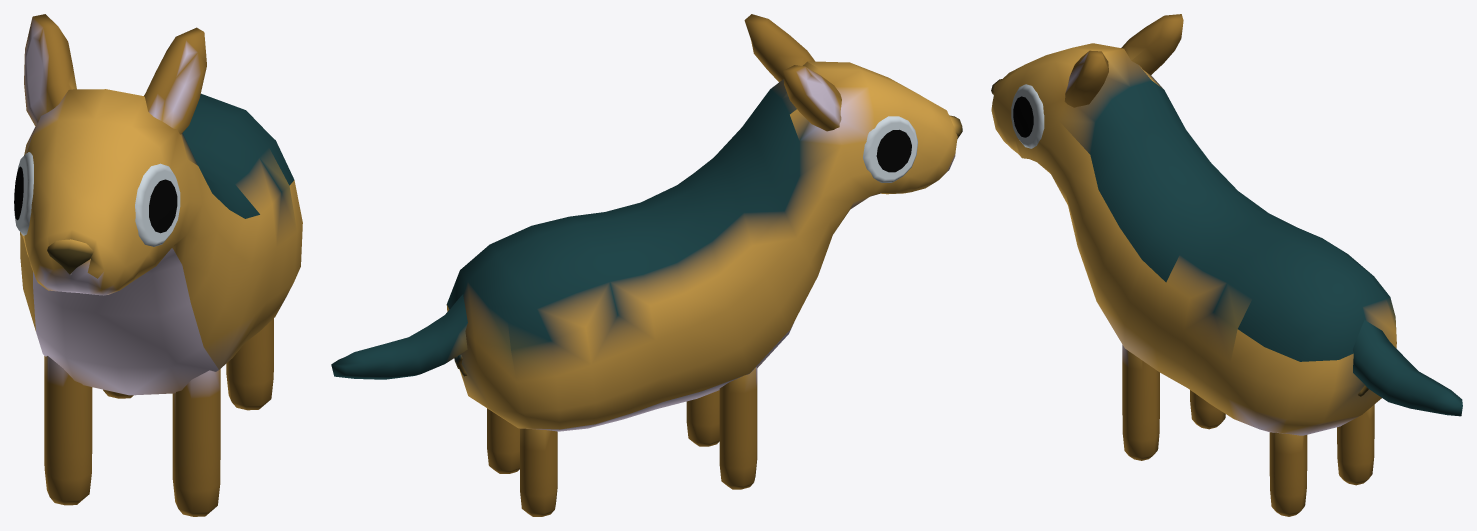
File: Jackal.glb
3 renders of one model, left to right at view 1: azimuth 30°, elevation 25°; view 2: azimuth 150°, elevation 25°; view 3: azimuth 270°, elevation 25°, orthographic. The views are drawn at different scales.
Visible parts, largest first — view 1: 76; view 2: 76; view 3: 76.
Boxes of the visible parts, <box> form: 76: <box>14,14,302,516</box>; 76: <box>331,14,962,516</box>; 76: <box>991,14,1462,516</box>.
Size of the model in its own units: 0.8842 by 0.8901 by 0.973.
